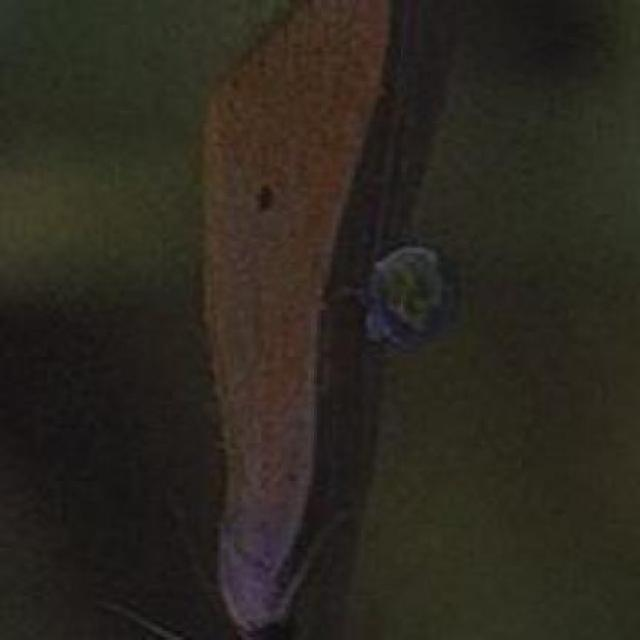stem-borer: (194, 0, 378, 640)
